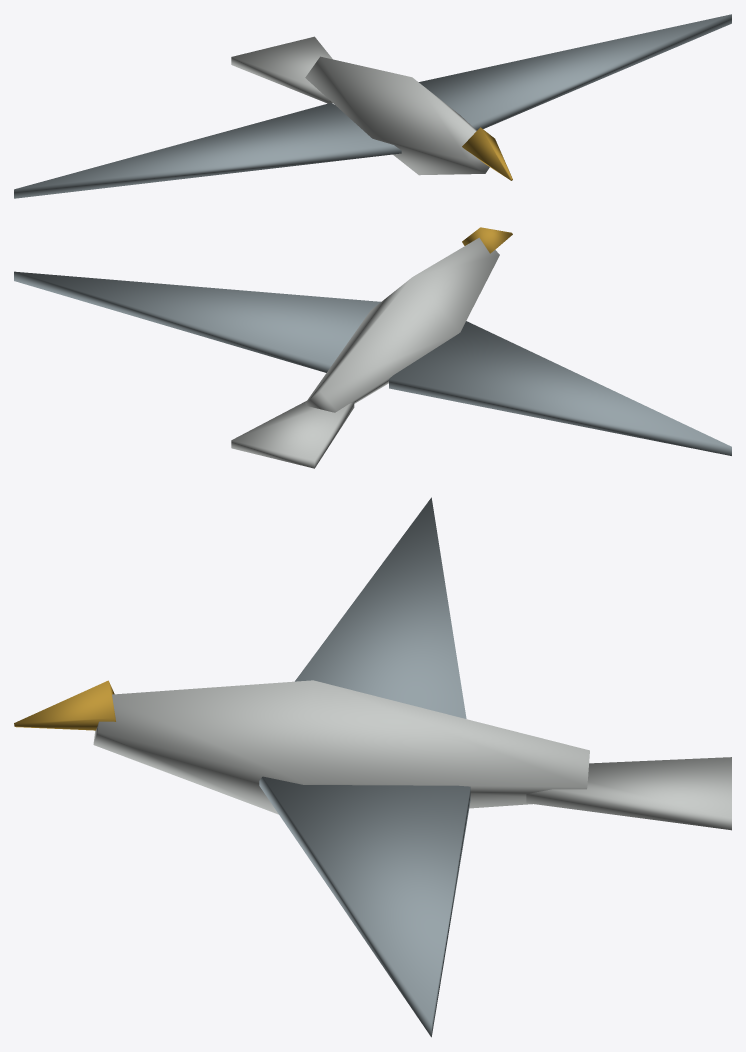
File: seagull_lod1.glb
3 views of the same model, one above another, from view 1: azimuth 30°, elevation 25°; view 2: azimuth 150°, elevation 25°; view 3: azimuth 270°, elevation 25° (orthographic). The views are drawn at different scales.
Visible parts, largest first — view 1: seagull; view 2: seagull; view 3: seagull.
Boxes of the visible parts, x1,y1,x2,y2 form: seagull: (14,14,731,198); seagull: (14,227,731,468); seagull: (14,497,731,1037).
Size of the model in its own units: 1.12 by 0.1389 by 0.6454.
